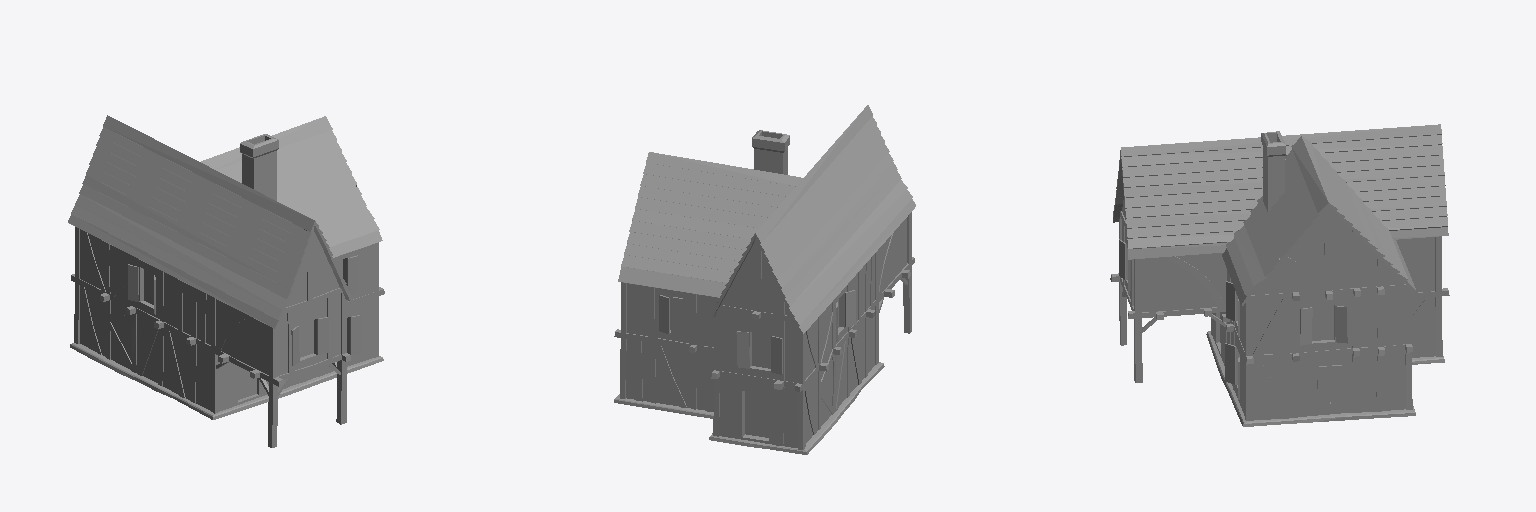
Rendered from house.obj.
3 views of the same model, side by side, from view 1: azimuth 30°, elevation 25°; view 2: azimuth 150°, elevation 25°; view 3: azimuth 270°, elevation 25° (orthographic).
Visible parts, largest first — view 1: Mesh_Box291; view 2: Mesh_Box291; view 3: Mesh_Box291.
Part boxes in pixels (left/top/right/bottom): Mesh_Box291: left=68, top=115, right=384, bottom=447; Mesh_Box291: left=614, top=105, right=915, bottom=454; Mesh_Box291: left=1110, top=124, right=1449, bottom=426.
Size of the model in its own units: 6.01 by 6.05 by 7.85.